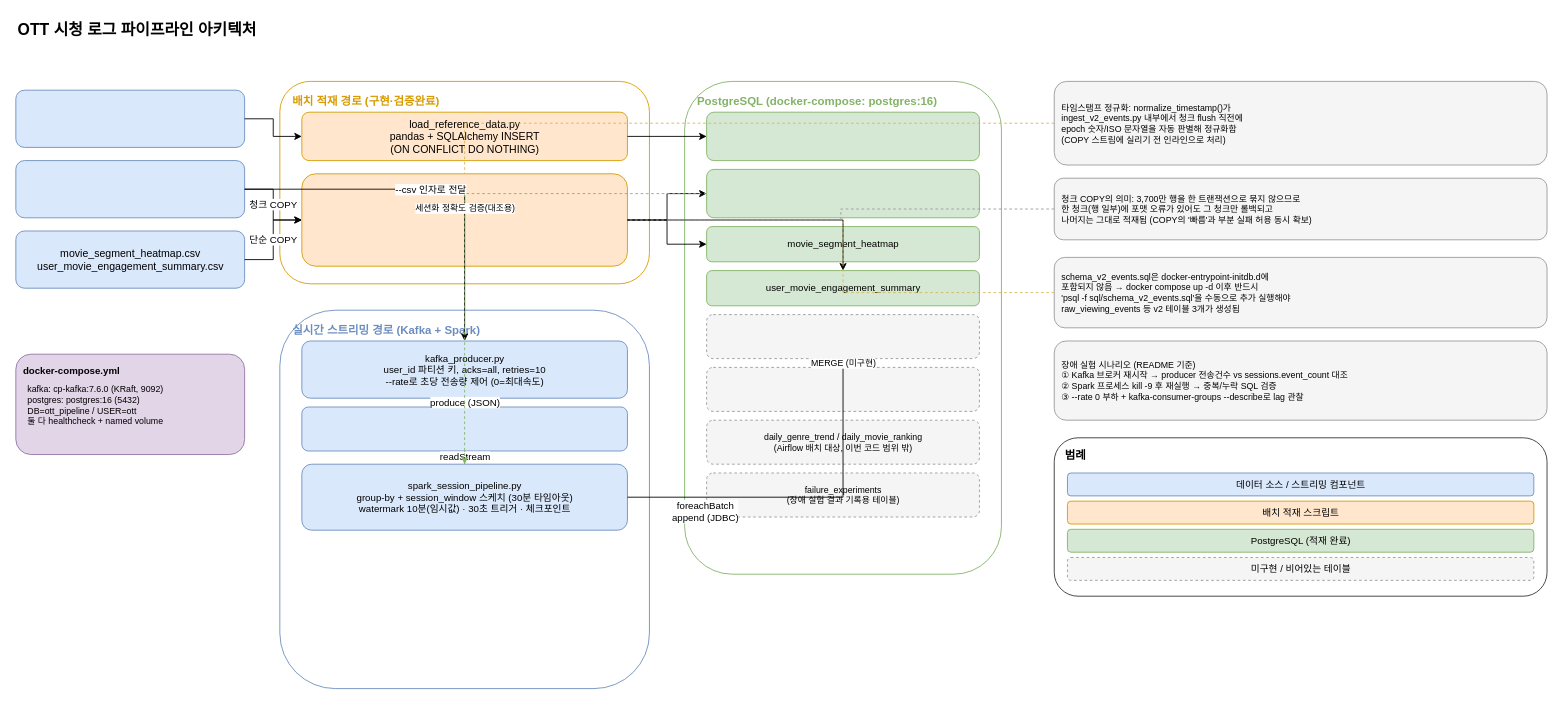
The diagram is 1562 pixels wide and 704 high, and some of its shapes have lost their labels. The centre of each missing label's shape, as x and y in pixels:
"ingest_v2_events.py 청크 COPY (기본 100,000행 단위) 청크마다 개별 commit/rollback" goes at [464,219].
"Kafka Topic: viewing-events (단일 브로커, KRaft)" goes at [464,428].
"movies / links / tags / ratings (MovieLens 원본 CSV)" goes at [130,118].
"movies / movie_links / tags / ratings_raw (init_schema.sql, 컨테이너 최초 기동 시 자동 적용)" goes at [842,136].
"raw_viewing_events (세션 경계 명시 — Spark 세션화 검증용 정답지)" goes at [842,193].
"sessions (정의만 있음, 아직 미충전)" goes at [842,389].
"sessions_staging (Spark foreachBatch가 append로만 적재)" goes at [842,336].
"viewing_events_part*.csv(.gz) (v2 이벤트, 16컬럼, 3,700만 건)" goes at [130,189].
